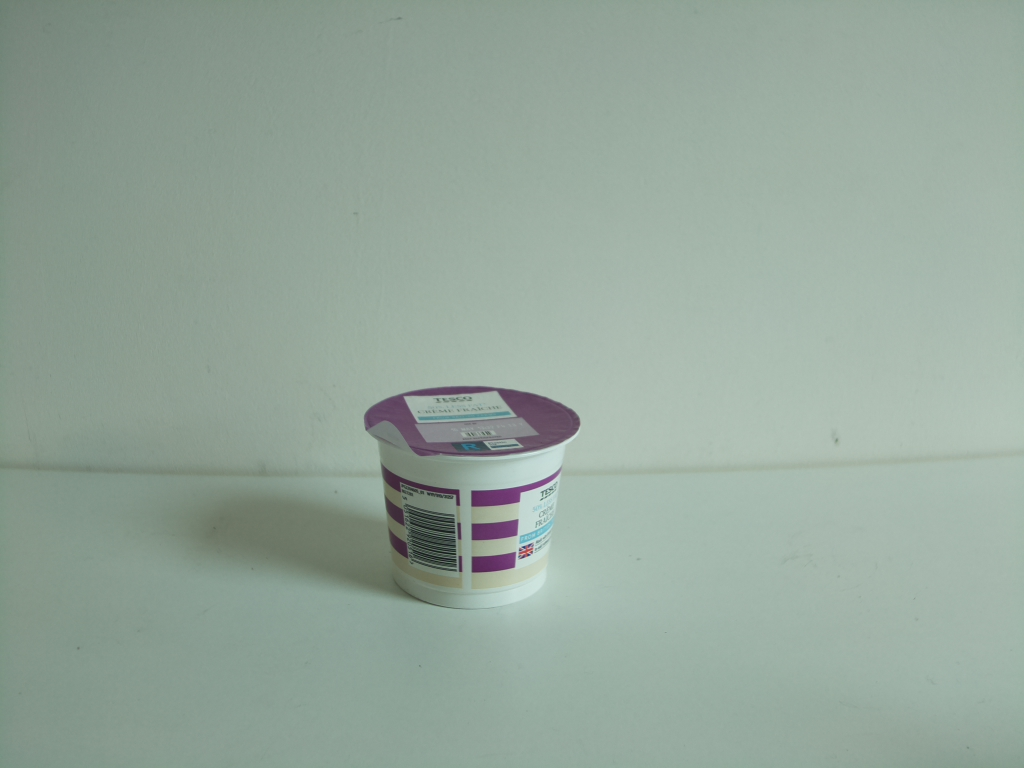cream: (363, 384, 584, 608)
